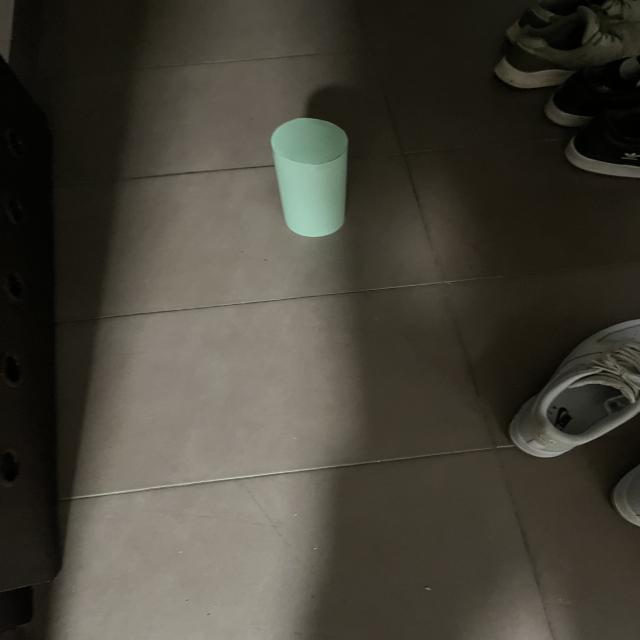meta: (271, 118, 348, 237)
